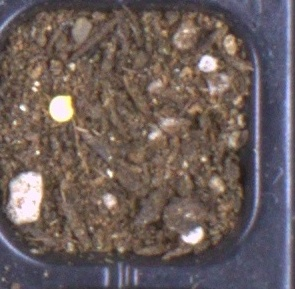chilli seed: (48, 94, 75, 123)
